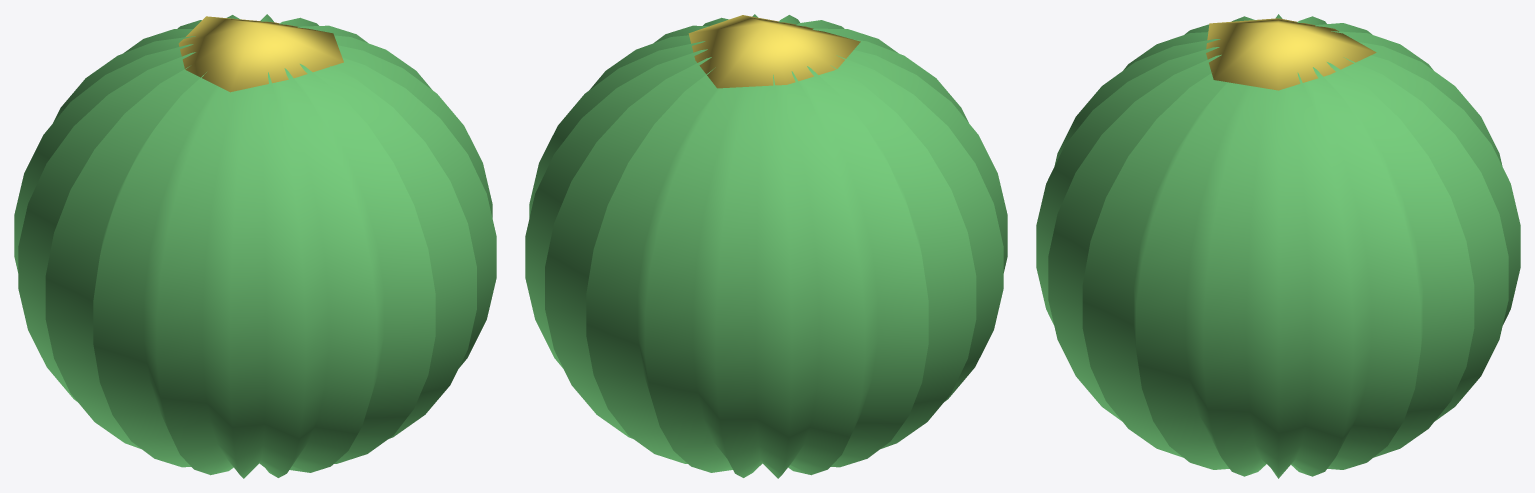
File: succulent_golden_barrel.glb
3 renders of one model, left to right at view 1: azimuth 30°, elevation 25°; view 2: azimuth 150°, elevation 25°; view 3: azimuth 270°, elevation 25°, orthographic.
Parts seen in each view (by area): view 1: Flora_Golden_Barrel; view 2: Flora_Golden_Barrel; view 3: Flora_Golden_Barrel.
Part boxes in pixels (x1,y1,x2,y2): Flora_Golden_Barrel: (14,14,496,478); Flora_Golden_Barrel: (525,14,1007,478); Flora_Golden_Barrel: (1036,14,1520,478).
Bounding box in the file's own units: 0.9054 × 0.88 × 0.9054.
